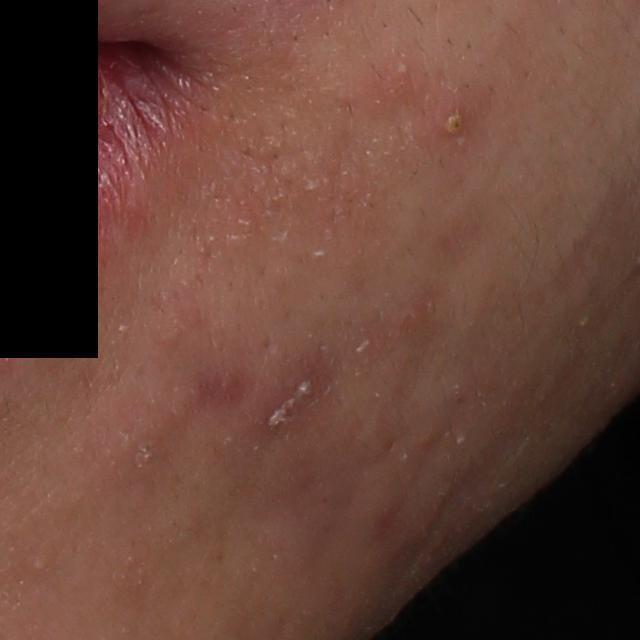comedo: (29, 556, 45, 580)
pustule: (434, 98, 474, 142)
